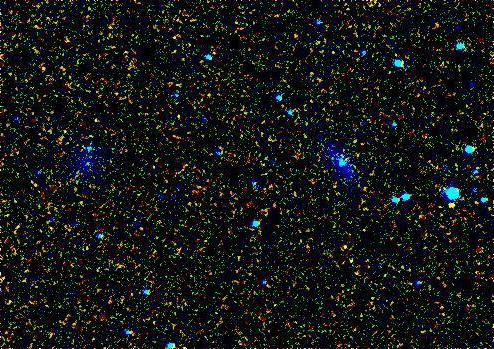star: (437, 189, 467, 219)
